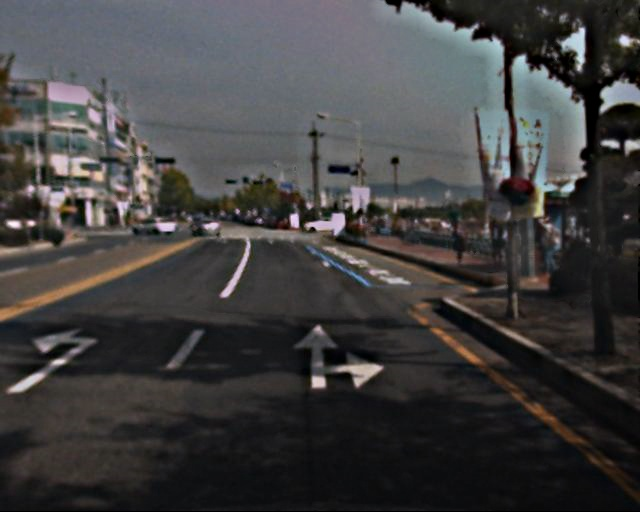person: (536, 216, 561, 277), (486, 213, 509, 269), (448, 219, 468, 267)
